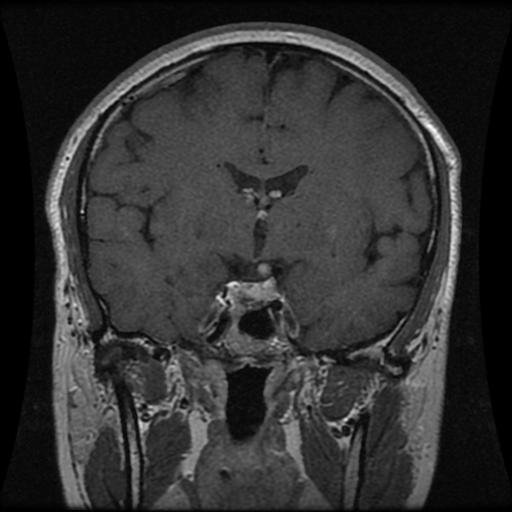Pituirity_tumour: (226, 278, 278, 309)
